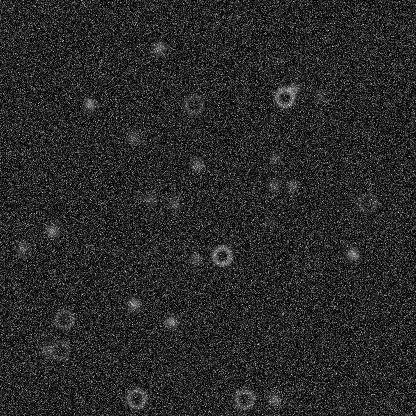Ring: (355, 191, 379, 215), (181, 92, 205, 116), (272, 85, 296, 109), (51, 307, 75, 331), (232, 386, 256, 410), (209, 243, 233, 267), (47, 338, 71, 362), (124, 386, 148, 410)
Spot: (310, 88, 326, 104), (265, 177, 281, 193), (189, 157, 205, 173), (163, 313, 179, 329), (187, 251, 203, 267), (141, 191, 157, 207), (125, 295, 141, 311), (285, 80, 301, 96), (81, 96, 97, 112), (266, 391, 282, 407), (151, 39, 167, 55), (344, 246, 360, 262), (284, 178, 300, 194), (267, 150, 283, 166), (125, 129, 141, 145), (14, 240, 30, 256), (38, 342, 54, 358), (44, 222, 60, 238), (166, 196, 182, 212), (260, 214, 276, 230)
